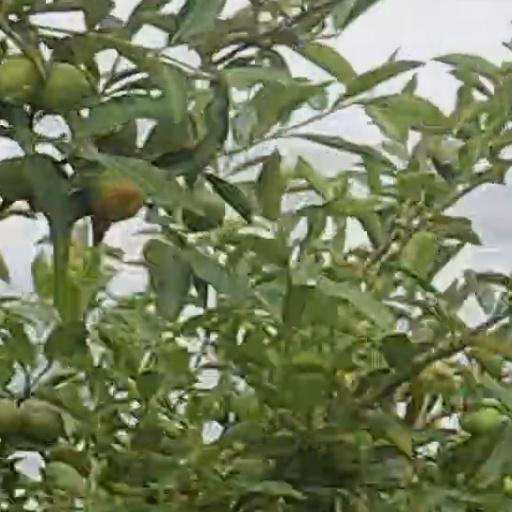acerola: (92, 175, 140, 218), (22, 401, 64, 443), (2, 55, 37, 103), (47, 65, 84, 110)
